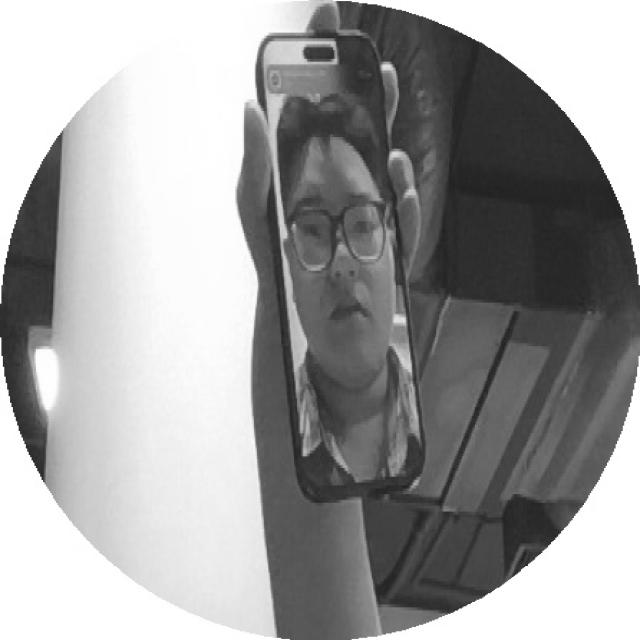fake: (225, 20, 503, 537), (250, 24, 435, 509)
